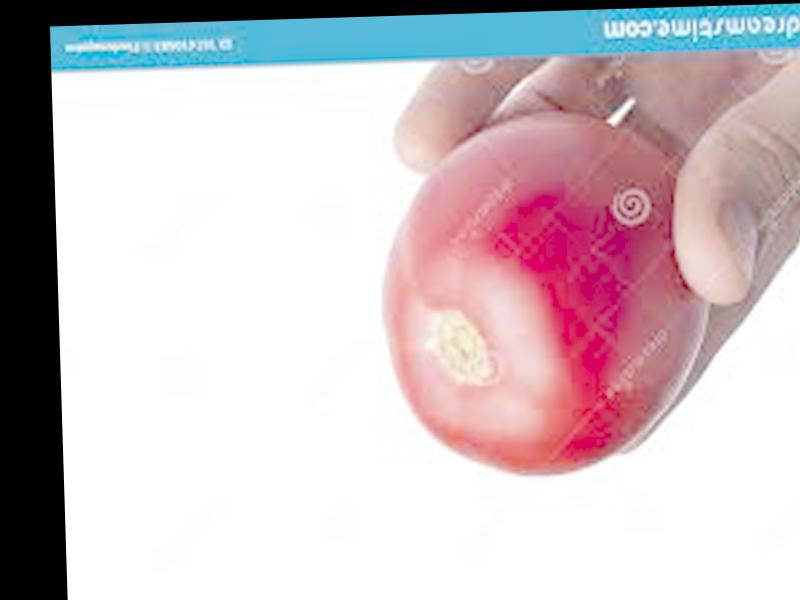Tomato: (378, 110, 715, 479)
